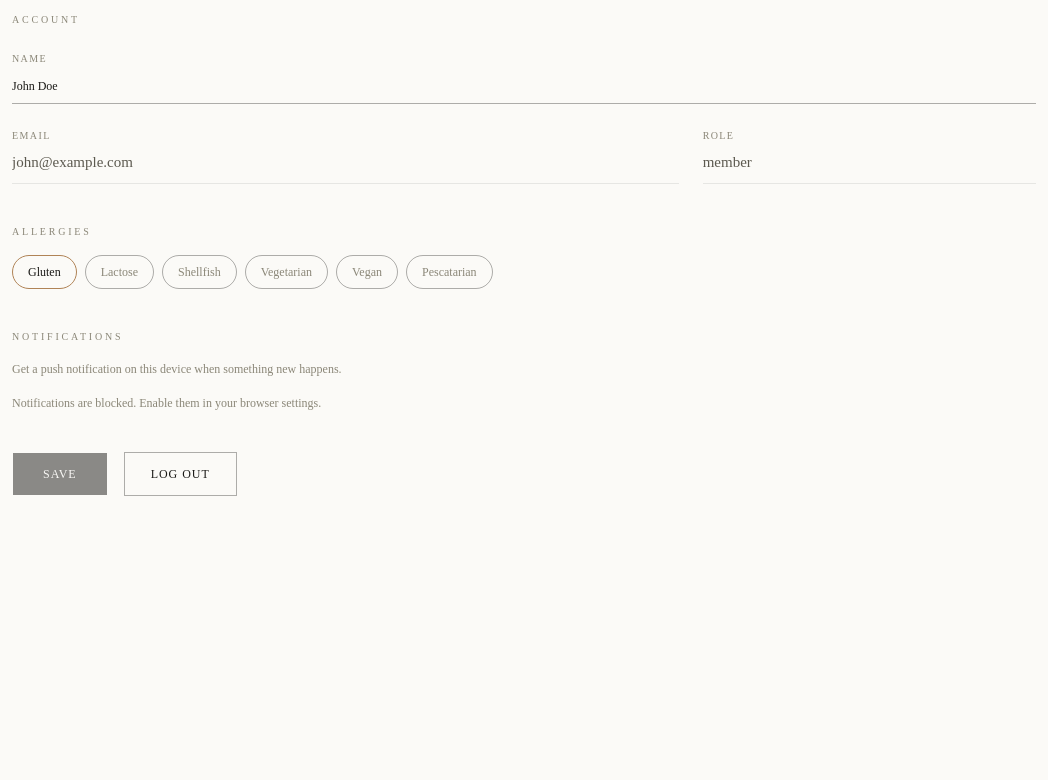
Scenario: ProfileForm Component › shows an error message when the save fails
Replace the text in the field labelled "Name" with "Jane Doe" at (524, 89), box top-left (12, 74), bottom-right (1036, 104)
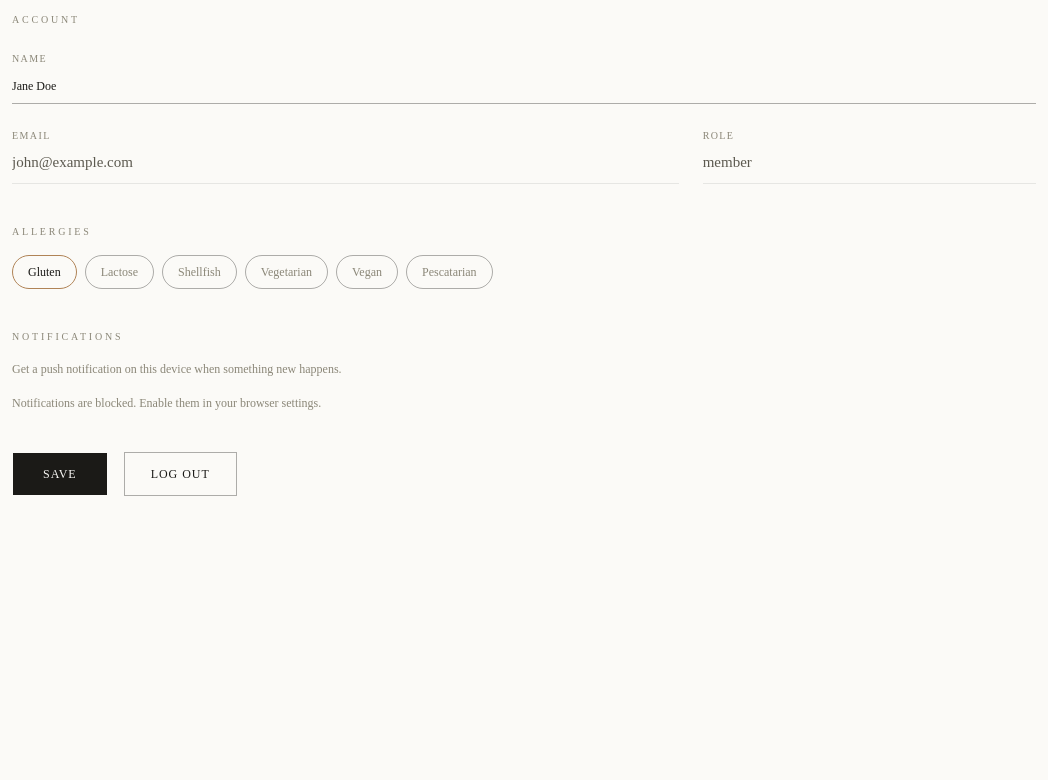
Click the button "Save".
click(60, 474)  # box top-left (12, 452), bottom-right (108, 496)
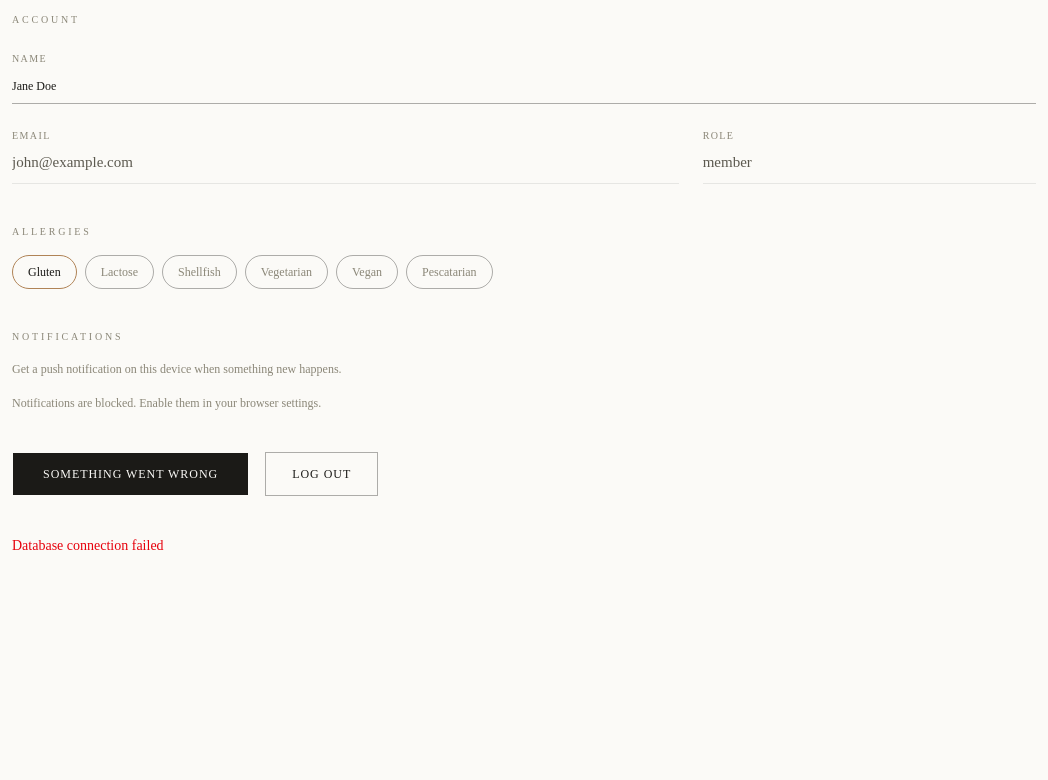
Now the button "Something went wrong" is shown, box top-left (12, 452), bottom-right (249, 496)
Now the text "Database connection failed" is shown, box top-left (12, 538), bottom-right (164, 552)
